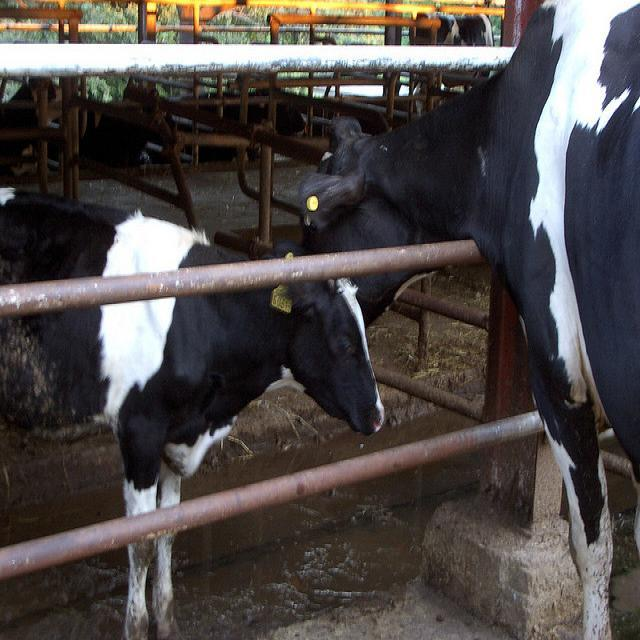cow: (292, 0, 638, 541), (0, 186, 387, 626), (0, 77, 61, 176), (416, 11, 494, 44)
